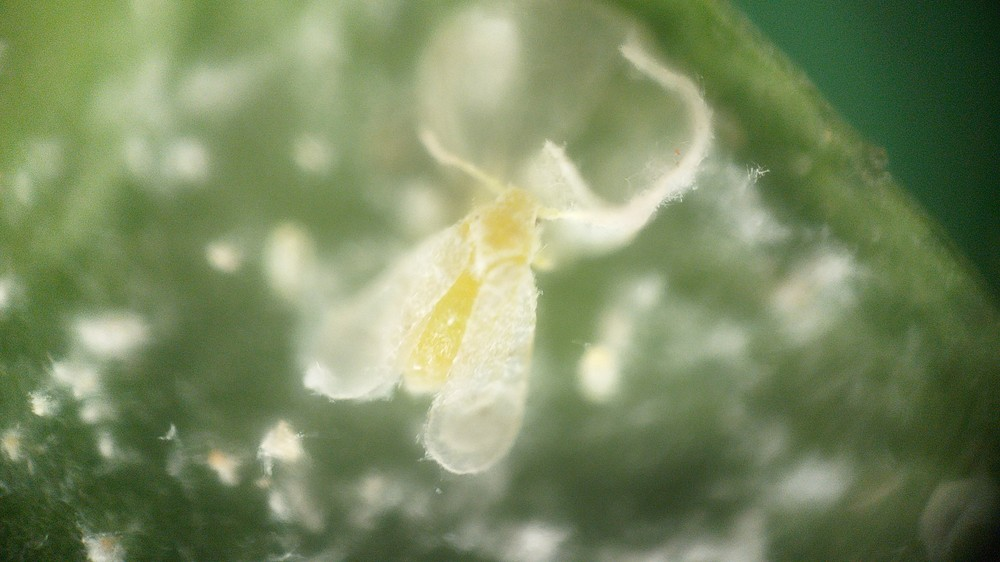Mosca Blanca: (290, 125, 646, 486)
